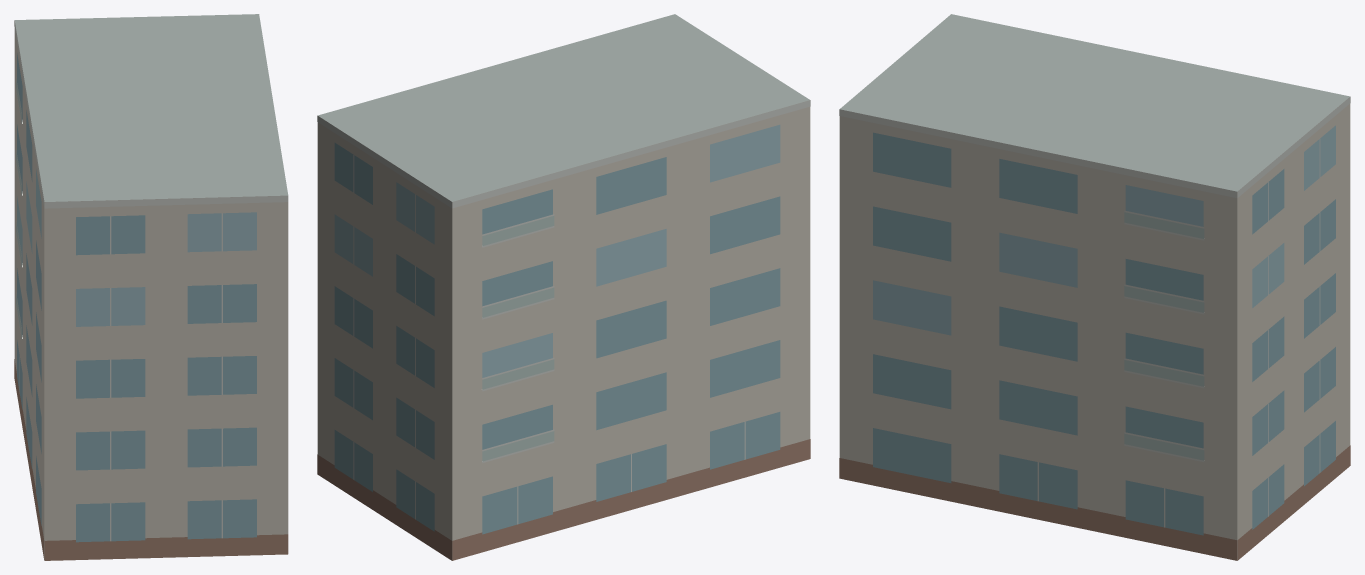
File: survey-upis-32894316.glb
The picture shows the model from 3 angles, left to right: view 1: azimuth 30°, elevation 25°; view 2: azimuth 150°, elevation 25°; view 3: azimuth 270°, elevation 25°; orthographic projection. The views are drawn at different scales.
Parts seen in each view (by area): view 1: survey-upis-32894316.tmp; view 2: survey-upis-32894316.tmp; view 3: survey-upis-32894316.tmp.
Part boxes in pixels (x1,y1,x2,y2): survey-upis-32894316.tmp: (14, 14, 288, 560); survey-upis-32894316.tmp: (317, 14, 810, 560); survey-upis-32894316.tmp: (839, 14, 1350, 560).
Size of the model in its own units: 13.94 by 13.5 by 16.94.
